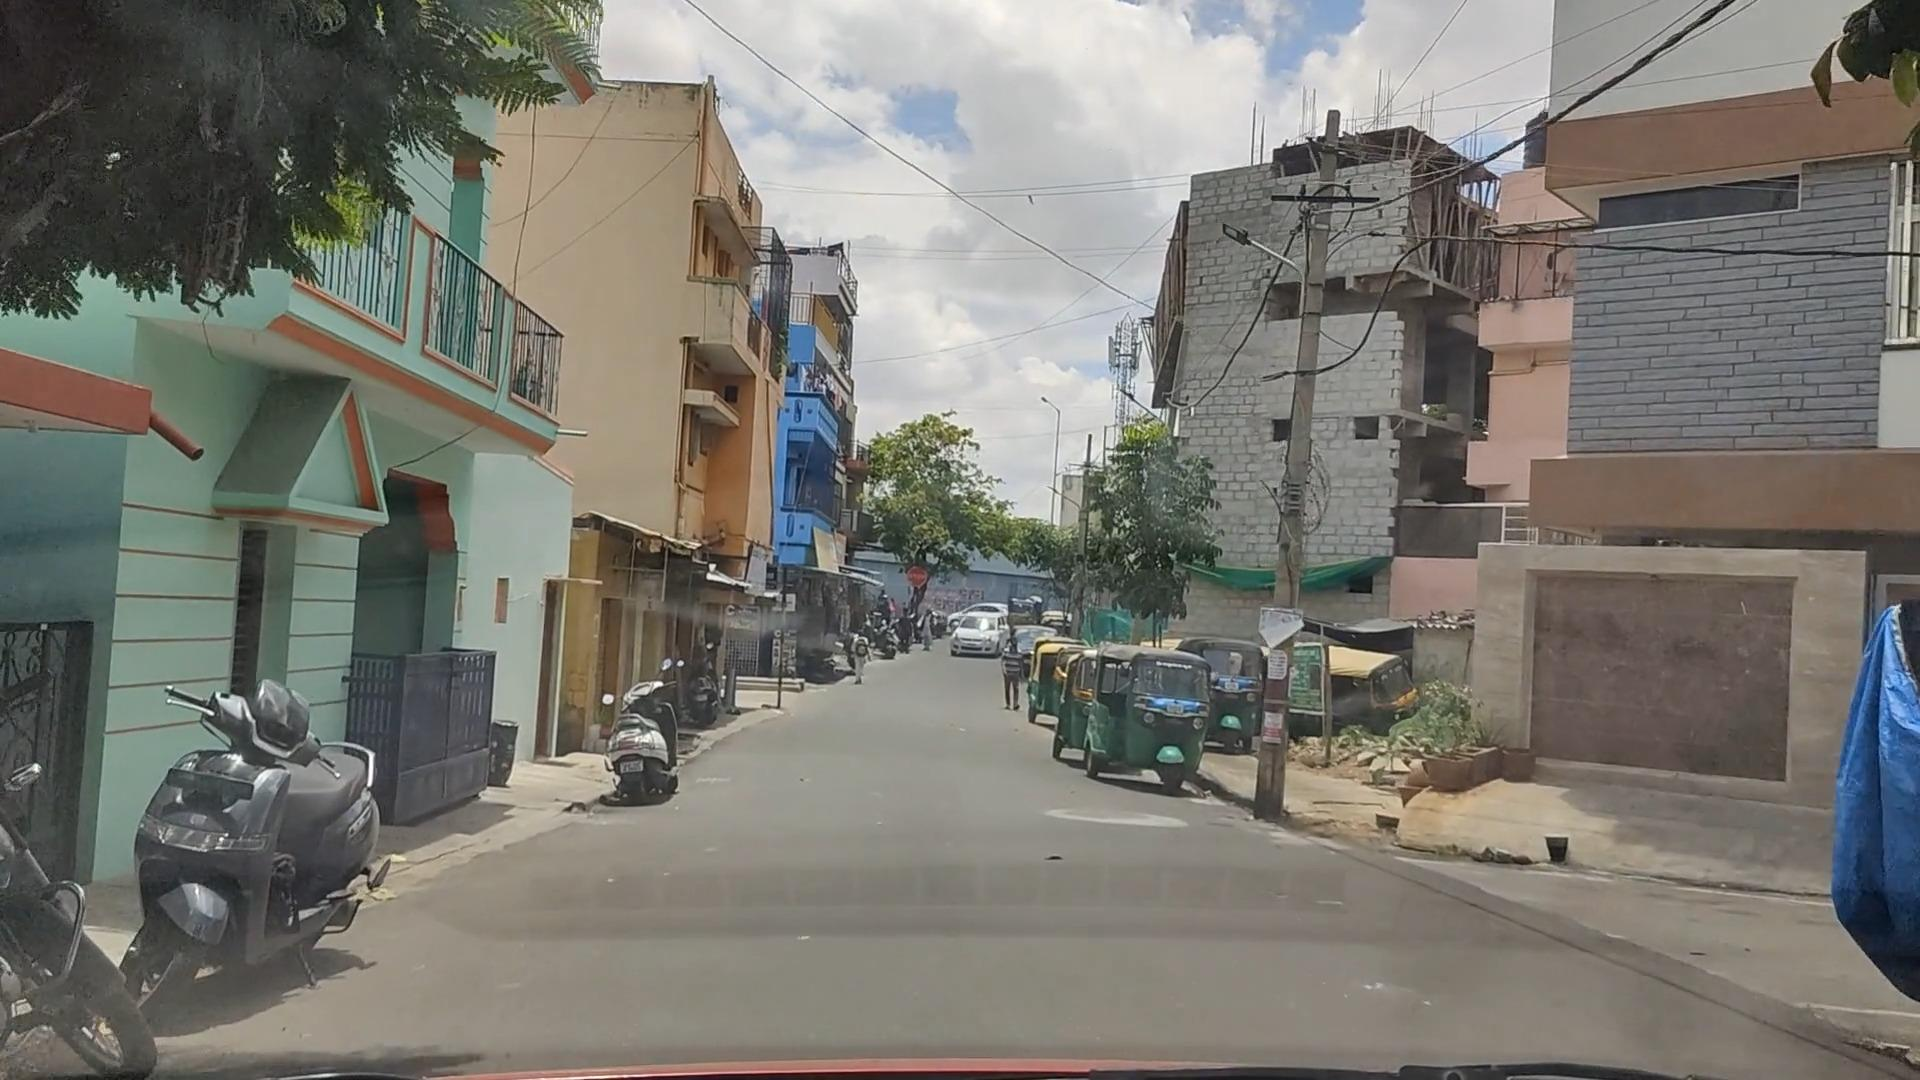LMV: (1089, 654, 1205, 785)
RoadDamages: (1052, 803, 1176, 840)
